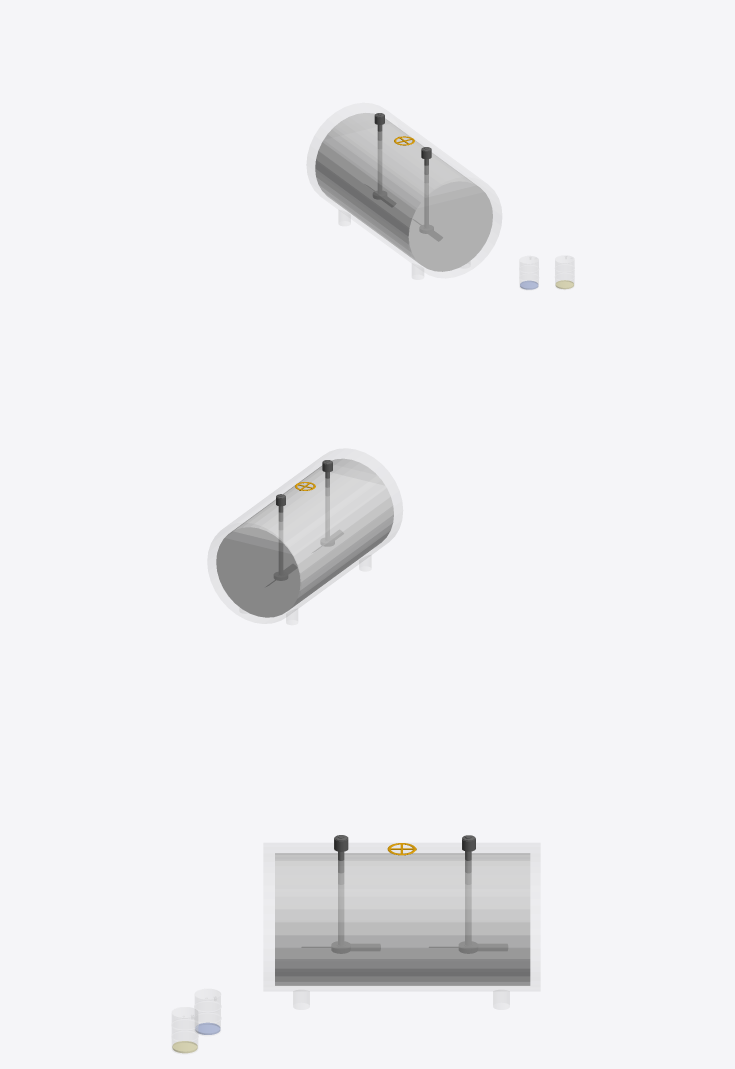
File: horizontalTank2Blades.glb
3 renders of one model, top to bottom at view 1: azimuth 30°, elevation 25°; view 2: azimuth 150°, elevation 25°; view 3: azimuth 270°, elevation 25°, orthographic. The views are drawn at different scales.
Parts seen in each view (by area): view 1: MilkCilinder100, MilkCilinder90, MilkCilinder75, TankCilinder, MilkCilinder50, MilkCilinder60, MilkCilinder80, MilkCilinder30, MilkCilinder70, MilkCilinder25, BarrelAlcaline, BarrelAcid (+2 smaller); view 2: MilkCilinder100, MilkCilinder90, MilkCilinder75, TankCilinder, MilkCilinder80, MilkCilinder60, MilkCilinder70, MilkCilinder50, MilkCilinder40, MilkCilinder30, Blade1, Blade2; view 3: MilkCilinder100, MilkCilinder75, MilkCilinder90, MilkCilinder50, TankCilinder, MilkCilinder80, MilkCilinder25, MilkCilinder60, Blade1, Blade2, BarrelAcid, BarrelAlcaline (+1 smaller).
Part boxes in pixels (box(x1,y1,x2,y2)): MilkCilinder100: box(315, 113, 483, 257); MilkCilinder90: box(323, 118, 486, 255); MilkCilinder75: box(315, 145, 491, 263); TankCilinder: box(307, 103, 501, 279); MilkCilinder50: box(316, 175, 492, 269); MilkCilinder60: box(315, 160, 492, 256); MilkCilinder80: box(321, 142, 492, 254); MilkCilinder30: box(320, 187, 480, 269); MilkCilinder70: box(339, 170, 492, 252); MilkCilinder25: box(323, 191, 481, 271); BarrelAlcaline: box(519, 256, 538, 289); BarrelAcid: box(555, 256, 574, 289); MilkCilinder100: box(224, 458, 393, 603); MilkCilinder90: box(220, 465, 384, 604); MilkCilinder75: box(216, 491, 393, 616); TankCilinder: box(208, 449, 402, 624); MilkCilinder80: box(219, 486, 387, 606); MilkCilinder60: box(216, 506, 393, 611); MilkCilinder70: box(217, 535, 339, 606); MilkCilinder50: box(216, 523, 392, 617); MilkCilinder40: box(217, 525, 391, 612); MilkCilinder30: box(222, 533, 388, 609); Blade1: box(266, 494, 296, 586); Blade2: box(314, 460, 343, 551); MilkCilinder100: box(275, 853, 530, 985); MilkCilinder75: box(275, 913, 529, 975); MilkCilinder90: box(275, 855, 529, 912); MilkCilinder50: box(275, 948, 529, 985); TankCilinder: box(264, 843, 539, 1009); MilkCilinder80: box(275, 906, 529, 921); MilkCilinder25: box(275, 974, 529, 985); MilkCilinder60: box(275, 936, 529, 958); Blade1: box(429, 835, 507, 953); Blade2: box(302, 835, 380, 953); BarrelAcid: box(172, 1007, 198, 1053); BarrelAlcaline: box(194, 989, 220, 1035).
Bounding box in the file's own units: 10.55 × 2.61 × 10.55.
